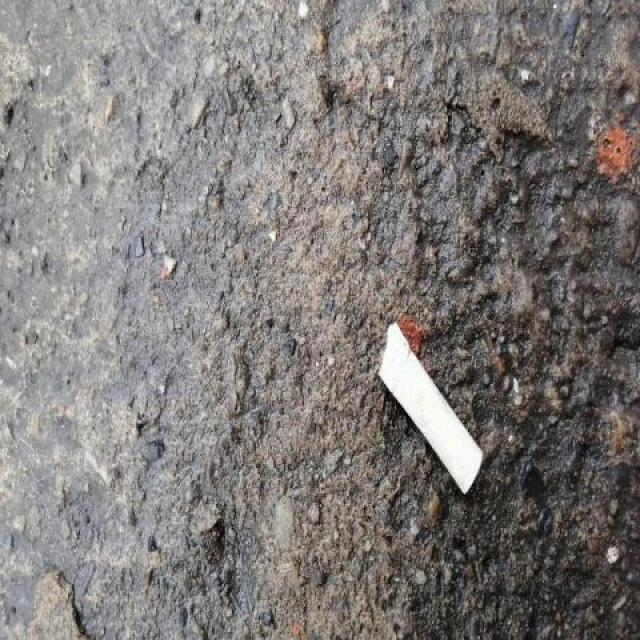non-organic waste: (374, 316, 489, 500)
